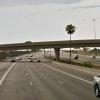Bridge: (5, 34, 98, 60)
